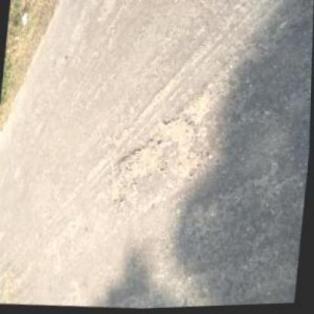Hueco: (108, 107, 206, 208)
